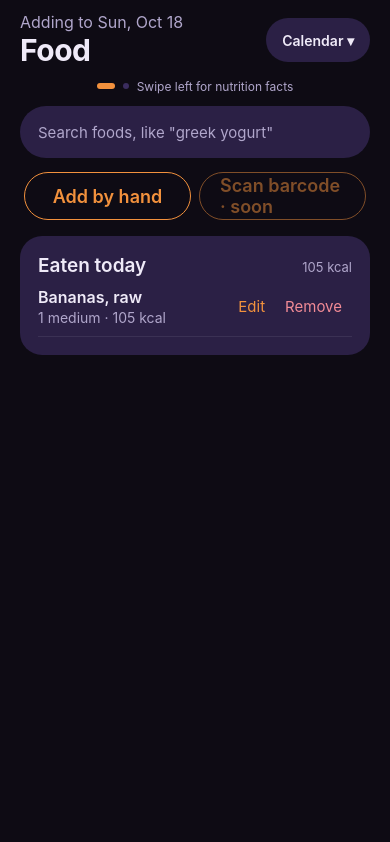
Test case: FoodScreen › opens the add-by-hand form straight away
This screenshot has width=390, height=842.
Expected: the text "1 medium · 105 kcal" is shown, [38, 309, 166, 326]
Click the button labelled "Add by hand". click: (108, 196)
box: [24, 172, 191, 220]
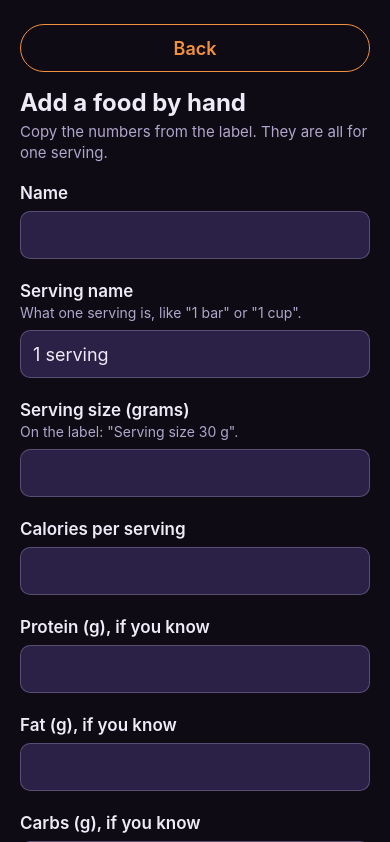
Expected: the button labelled "Back" is shown, [20, 24, 370, 72]
